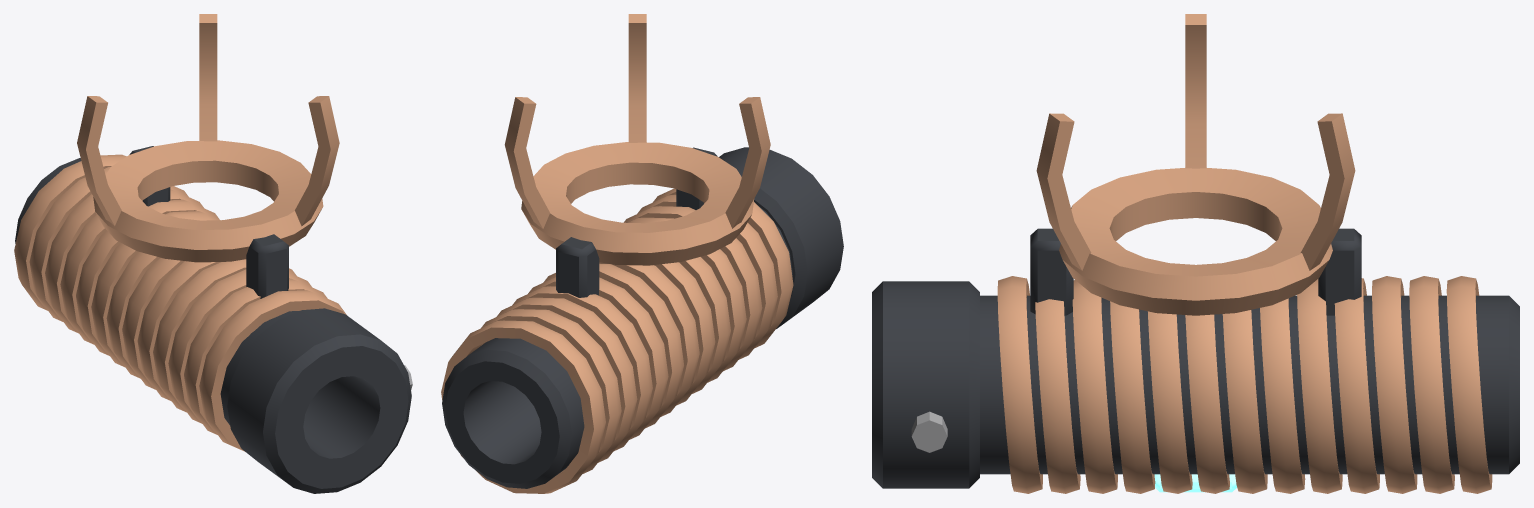
The model's file is artifact_adapter.glb.
3 renders of one model, left to right at view 1: azimuth 30°, elevation 25°; view 2: azimuth 150°, elevation 25°; view 3: azimuth 270°, elevation 25°, orthographic. The views are drawn at different scales.
Parts seen in each view (by area): view 1: body; view 2: body; view 3: body.
Boxes of the visible parts, left/top/right/bottom form: body: left=14, top=14, right=412, bottom=493; body: left=441, top=14, right=843, bottom=493; body: left=872, top=14, right=1519, bottom=493.
Bounding box in the file's own units: 0.0442 × 0.0623 × 0.09.
